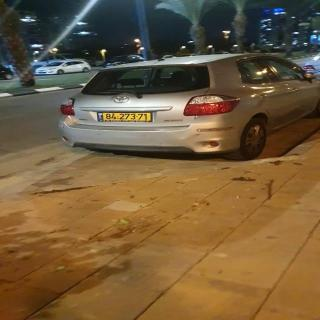LicensePlate: (104, 113, 151, 120)
